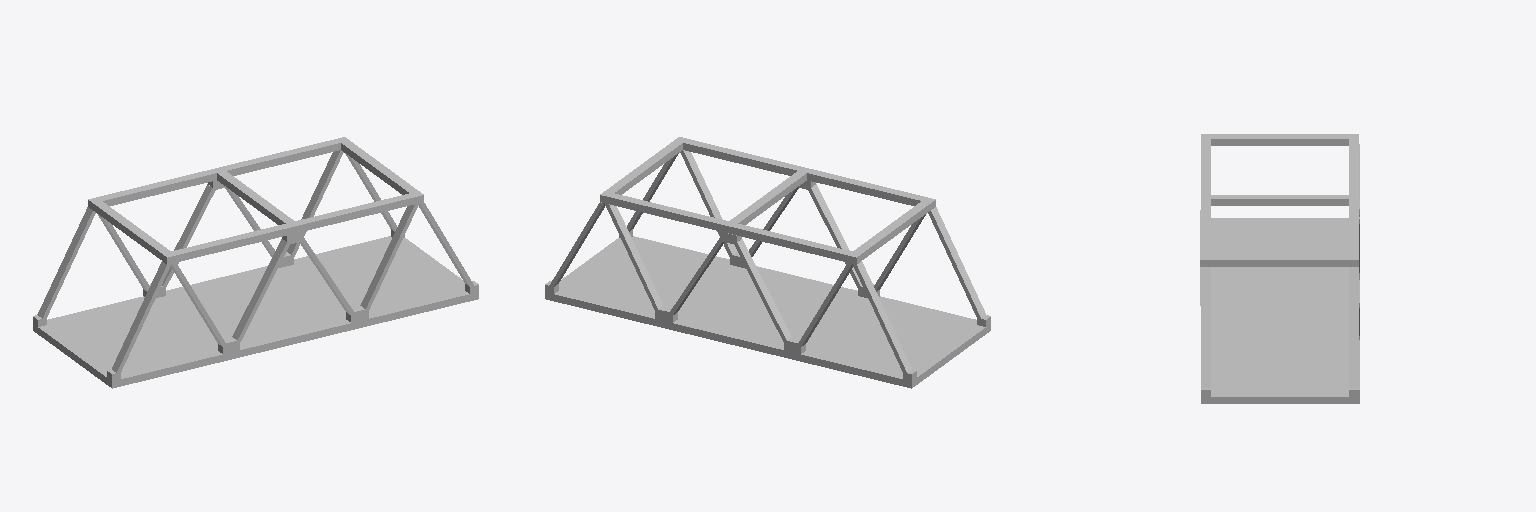
File: mokei.obj
The picture shows the model from 3 angles: view 1: azimuth 30°, elevation 25°; view 2: azimuth 150°, elevation 25°; view 3: azimuth 270°, elevation 25°; orthographic projection.
Parts seen in each view (by area): view 1: object_19, object_8, object_7, object_28, object_25, object_15, object_10, object_23, object_5, object_11, object_18, object_9 (+4 smaller); view 2: object_19, object_7, object_8, object_25, object_28, object_18, object_9, object_23, object_5, object_11, object_15, object_10 (+4 smaller); view 3: object_19, object_11, object_23, object_5, object_8, object_7, object_27, object_26.
Part boxes in pixels (left/top/right/bottom): object_19: left=33, top=236, right=478, bottom=388; object_8: left=162, top=191, right=423, bottom=264; object_7: left=88, top=137, right=349, bottom=209; object_28: left=112, top=261, right=170, bottom=372; object_25: left=37, top=207, right=95, bottom=318; object_15: left=360, top=203, right=419, bottom=311; object_10: left=232, top=239, right=289, bottom=341; object_23: left=93, top=201, right=170, bottom=259; object_5: left=217, top=171, right=293, bottom=224; object_11: left=341, top=141, right=417, bottom=194; object_18: left=287, top=150, right=343, bottom=256; object_9: left=162, top=184, right=215, bottom=287; object_19: left=545, top=236, right=990, bottom=388; object_7: left=600, top=191, right=861, bottom=264; object_8: left=674, top=137, right=935, bottom=209; object_25: left=853, top=261, right=911, bottom=372; object_28: left=928, top=207, right=985, bottom=318; object_18: left=605, top=203, right=662, bottom=311; object_9: left=734, top=239, right=791, bottom=342; object_23: left=853, top=201, right=930, bottom=259; object_5: left=730, top=171, right=806, bottom=224; object_11: left=606, top=141, right=682, bottom=194; object_15: left=680, top=150, right=736, bottom=256; object_10: left=808, top=184, right=861, bottom=287; object_19: left=1201, top=218, right=1359, bottom=403; object_11: left=1211, top=255, right=1348, bottom=266; object_23: left=1211, top=134, right=1348, bottom=145; object_5: left=1211, top=195, right=1348, bottom=205; object_8: left=1200, top=134, right=1210, bottom=266; object_7: left=1349, top=134, right=1358, bottom=266; object_27: left=1349, top=267, right=1359, bottom=387; object_26: left=1200, top=267, right=1210, bottom=387.
Size of the model in its own units: 18.42 by 5.64 by 6.91.